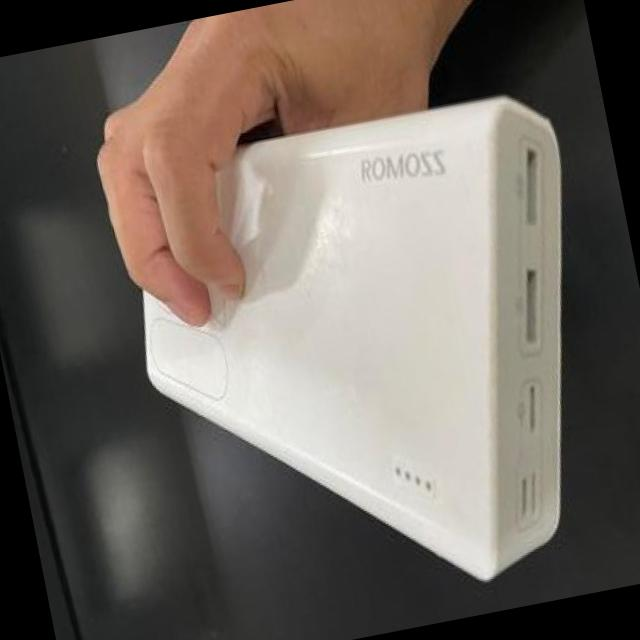power_bank: (79, 47, 640, 640)
